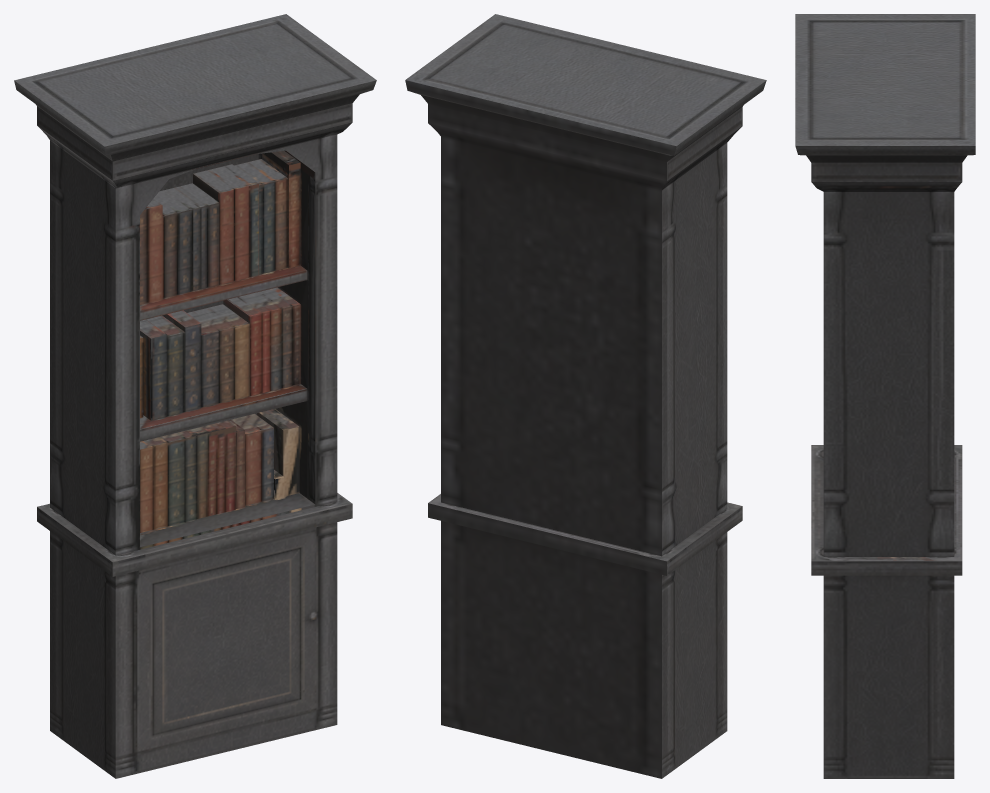
File: Bookcase_Narrow.fbx
3 views of the same model, side by side, from view 1: azimuth 30°, elevation 25°; view 2: azimuth 150°, elevation 25°; view 3: azimuth 270°, elevation 25° (orthographic).
Visible parts, largest first — view 1: Bookcase_Narrow_Low; view 2: Bookcase_Narrow_Low; view 3: Bookcase_Narrow_Low.
Boxes of the visible parts, x1=… form: Bookcase_Narrow_Low: x1=14, y1=14, x2=376, y2=778; Bookcase_Narrow_Low: x1=405, y1=14, x2=766, y2=778; Bookcase_Narrow_Low: x1=795, y1=14, x2=975, y2=778.
Size of the model in its own units: 1.18 by 2.69 by 0.68.
